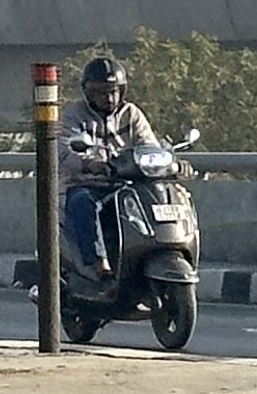BikeWithRider: (9, 50, 213, 355)
Helmet: (73, 51, 133, 115)
